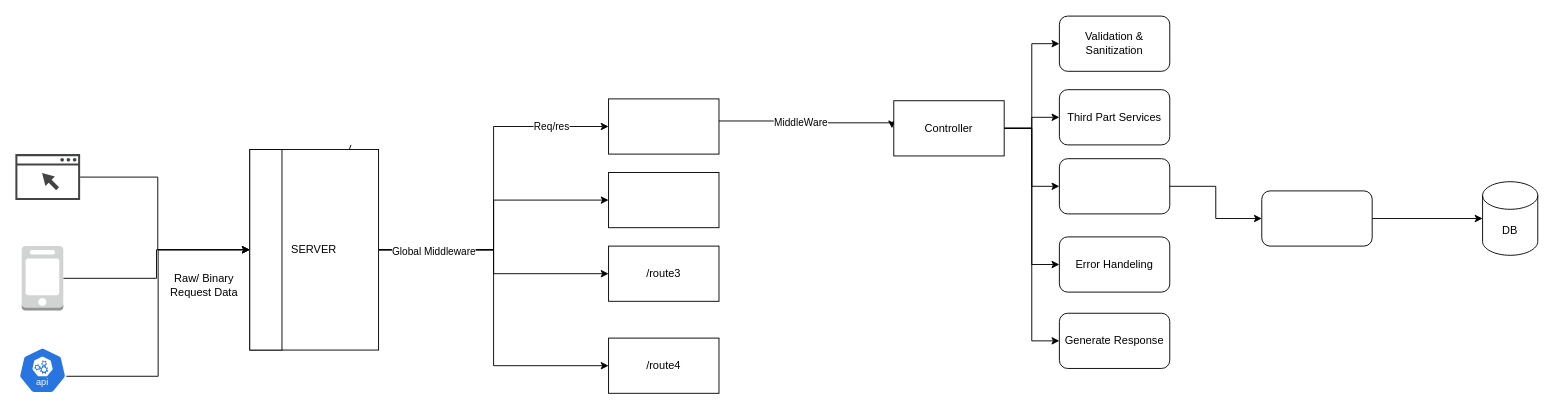
This 1555x409 diagram has some shape labels left out. Here are the shapes that lost their labels. From the top down, the centre of each, then its label:
the point at 663,126: /route1
the point at 663,200: /route2
the point at 1114,186: Business Logic
the point at 1316,218: Custom Services
